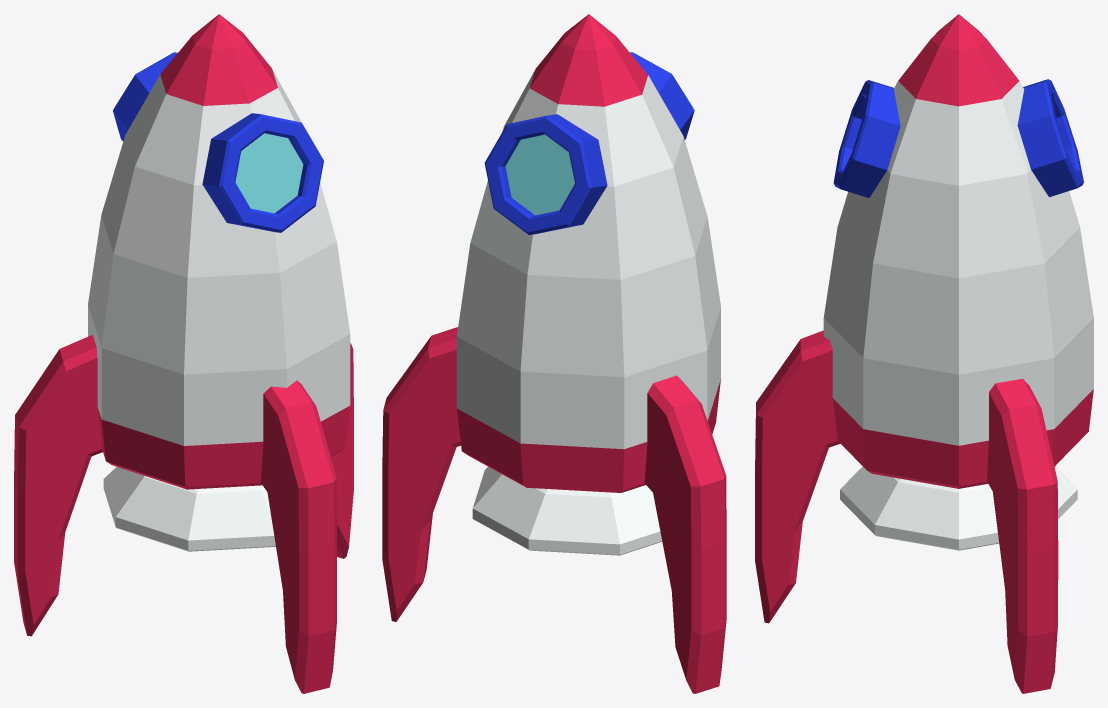
Rendered from rocket.glb.
3 views of the same model, side by side, from view 1: azimuth 30°, elevation 25°; view 2: azimuth 150°, elevation 25°; view 3: azimuth 270°, elevation 25° (orthographic).
Visible parts, largest first — view 1: Окружность; view 2: Окружность; view 3: Окружность.
Boxes of the visible parts, x1,y1,x2,y2 form: Окружность: (14,14,353,693); Окружность: (382,14,726,693); Окружность: (755,14,1093,693).
Bounding box in the file's own units: 3.84 × 6.62 × 3.37.
2 materials, 1 textured.
